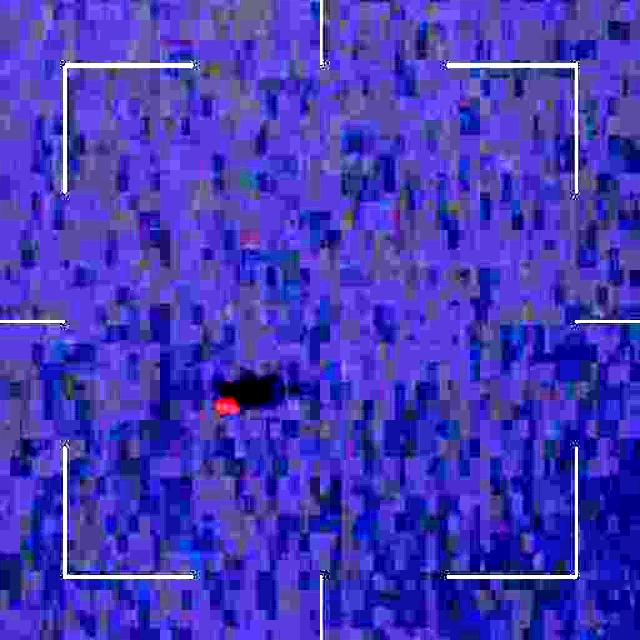bird: (214, 374, 249, 432)
